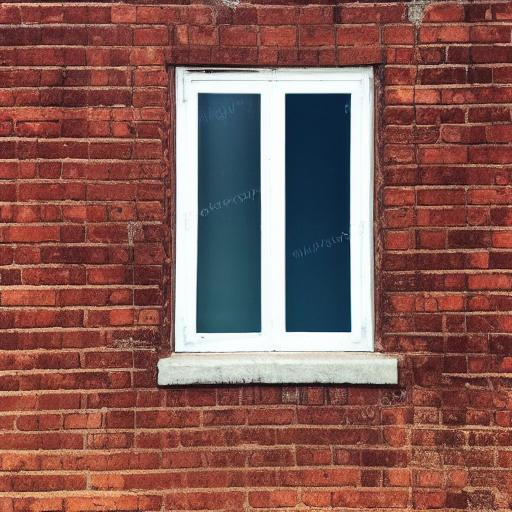Window: (156, 43, 402, 388)
